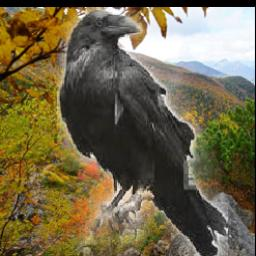Crow: (58, 7, 229, 256)
